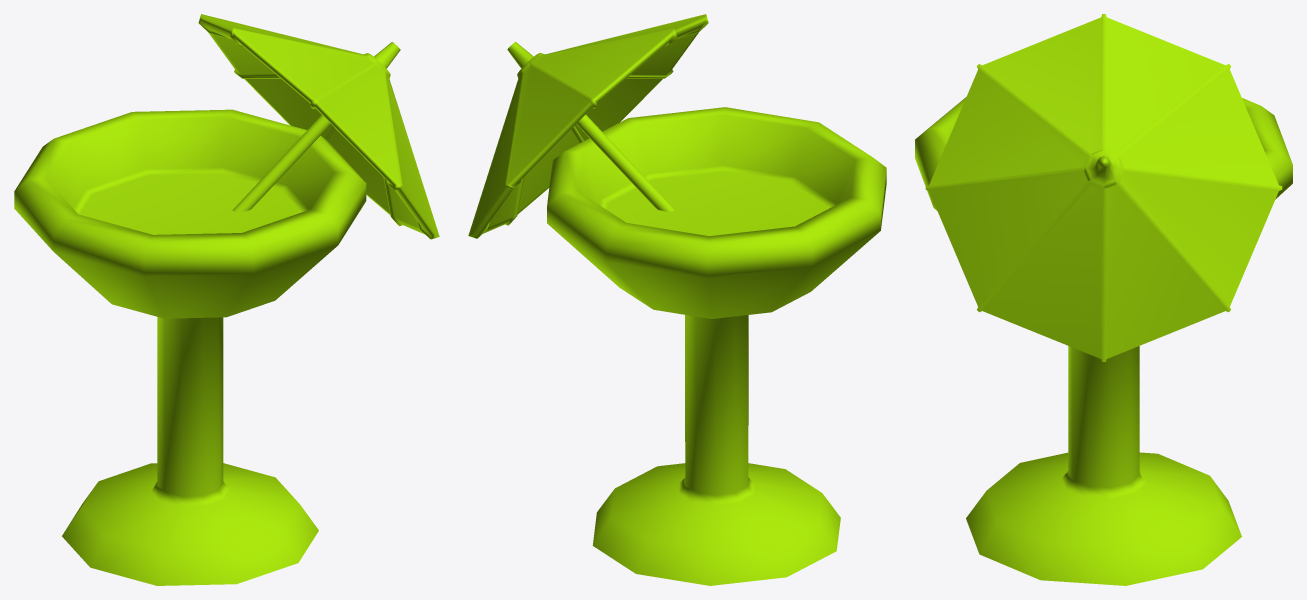
File: Mode_cocktail.fbx
3 renders of one model, left to right at view 1: azimuth 30°, elevation 25°; view 2: azimuth 150°, elevation 25°; view 3: azimuth 270°, elevation 25°, orthographic. The views are drawn at different scales.
Parts seen in each view (by area): view 1: cocktail; view 2: cocktail; view 3: cocktail.
Part boxes in pixels (x1,y1,x2,y2): cocktail: (14,14,439,585); cocktail: (468,14,886,585); cocktail: (915,14,1292,585).
Bounding box in the file's own units: 24.39 × 31.38 × 20.03.
